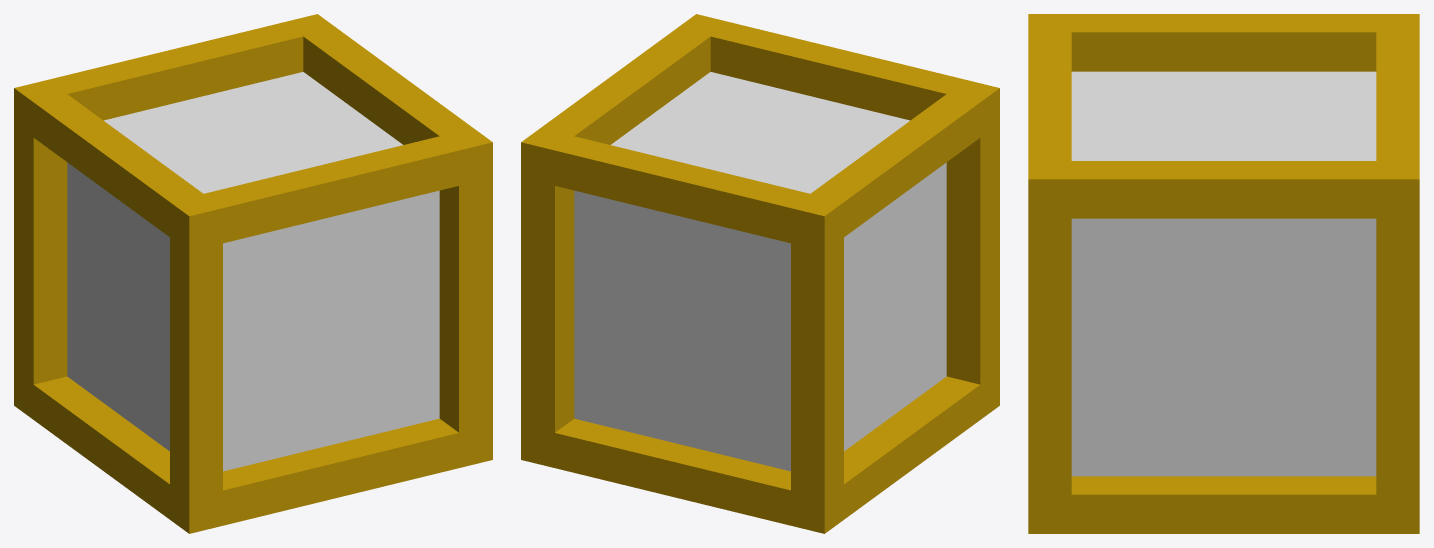
Rendered from classroom_blockORANGE_v2.fbx.
The picture shows the model from 3 angles, left to right: view 1: azimuth 30°, elevation 25°; view 2: azimuth 150°, elevation 25°; view 3: azimuth 270°, elevation 25°; orthographic projection. The views are drawn at different scales.
Parts seen in each view (by area): view 1: pCube17; view 2: pCube17; view 3: pCube17.
Part boxes in pixels (x1=…): pCube17: x1=14, y1=14, x2=492, y2=533; pCube17: x1=521, y1=14, x2=999, y2=533; pCube17: x1=1028, y1=14, x2=1419, y2=533.
Size of the model in its own units: 1 by 1 by 1.
